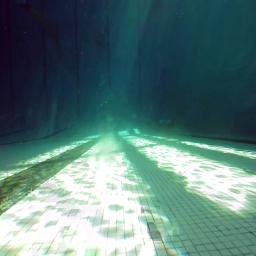Full: (95, 38, 106, 48)
front: (157, 117, 175, 131)
